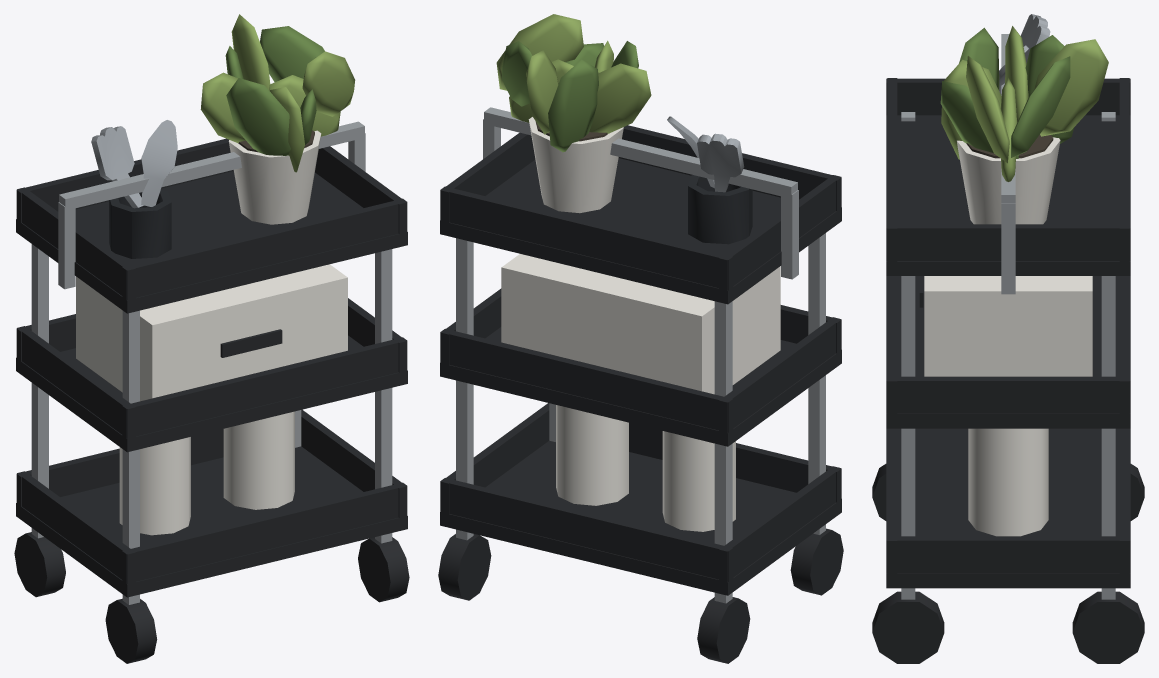
Rendered from kitchen_ref_trolley.glb.
3 renders of one model, left to right at view 1: azimuth 30°, elevation 25°; view 2: azimuth 150°, elevation 25°; view 3: azimuth 270°, elevation 25°, orthographic. The views are drawn at different scales.
Size of the model in its own units: 0.955 by 1.62 by 0.68.
